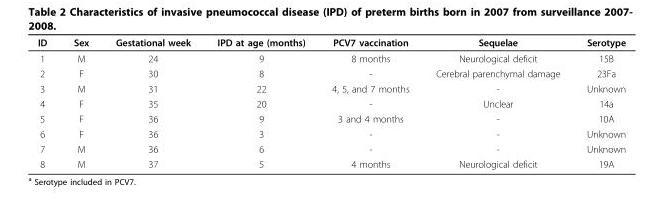table: (36, 36, 625, 169)
table column: (421, 36, 572, 169), (203, 36, 318, 169), (318, 36, 421, 169), (101, 36, 203, 169), (572, 36, 625, 169), (59, 36, 101, 169), (36, 36, 59, 169)
table column header: (36, 36, 625, 50)
table row: (36, 110, 625, 126), (36, 50, 625, 65), (36, 65, 625, 80), (36, 80, 625, 95), (36, 95, 625, 110), (36, 126, 625, 141), (36, 141, 625, 156), (36, 36, 625, 50), (36, 156, 625, 169)
